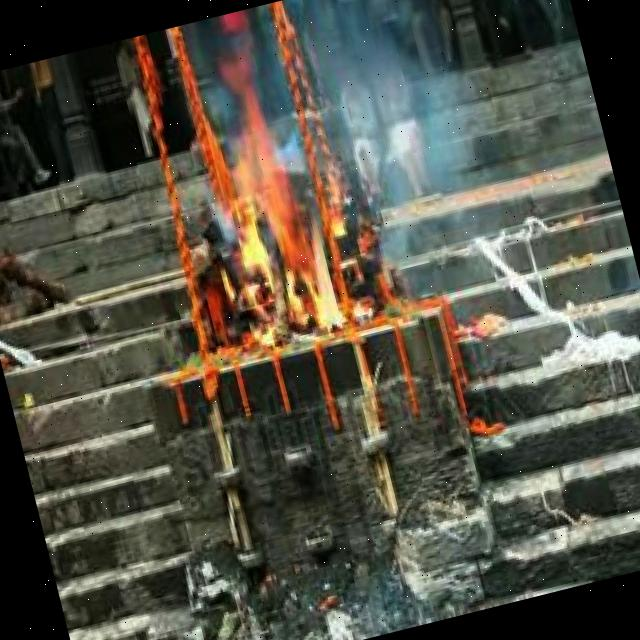fire: (208, 119, 354, 350)
